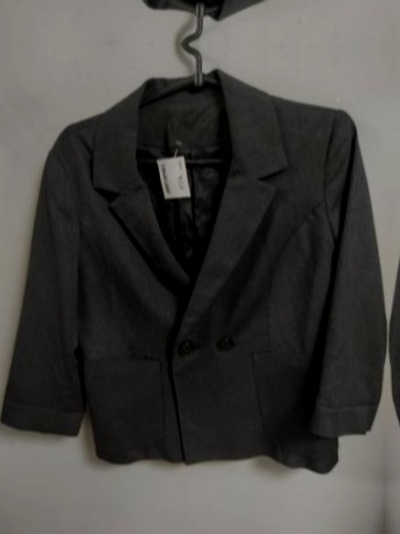Blazer: (0, 83, 385, 490), (394, 91, 400, 498), (0, 0, 395, 5)
